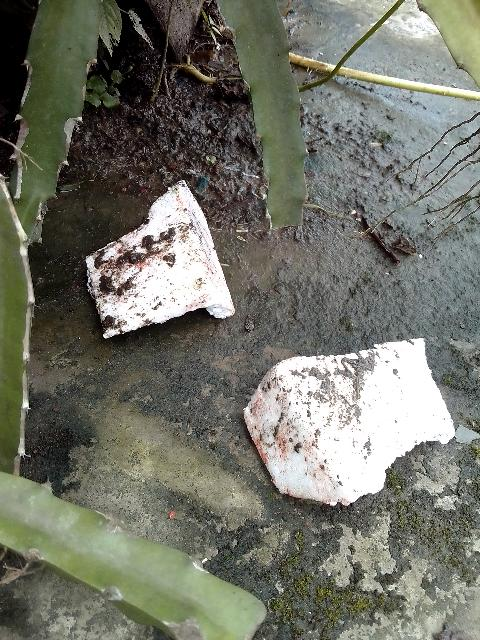cocksheet: (244, 321, 480, 503), (81, 187, 238, 351)
